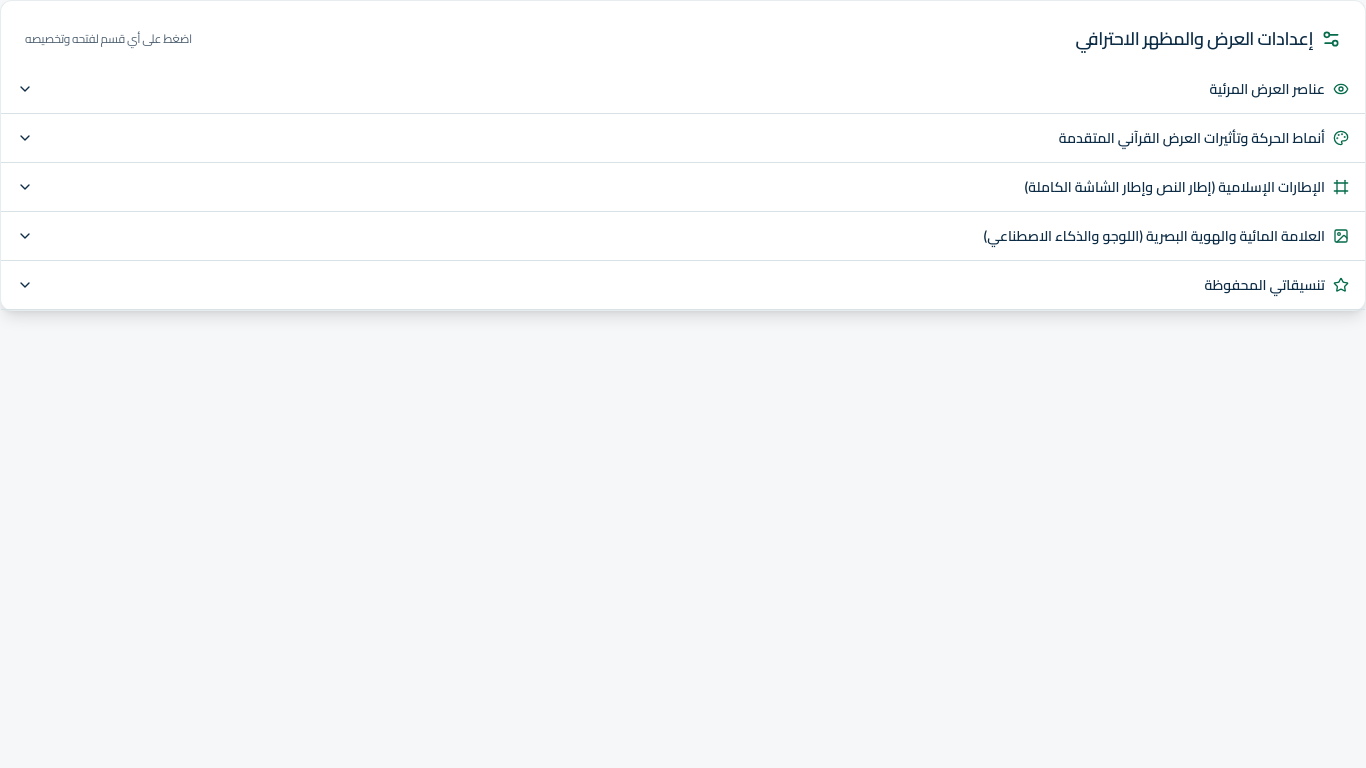
Test case: preview studio settings and sharing › keeps the social handle and position changes instead of overwriting them with stale state
Click the button "العلامة المائية والهوية البصرية (اللوجو والذكاء الاصطناعي)" at (1154,236), box [17,212,1349,260]
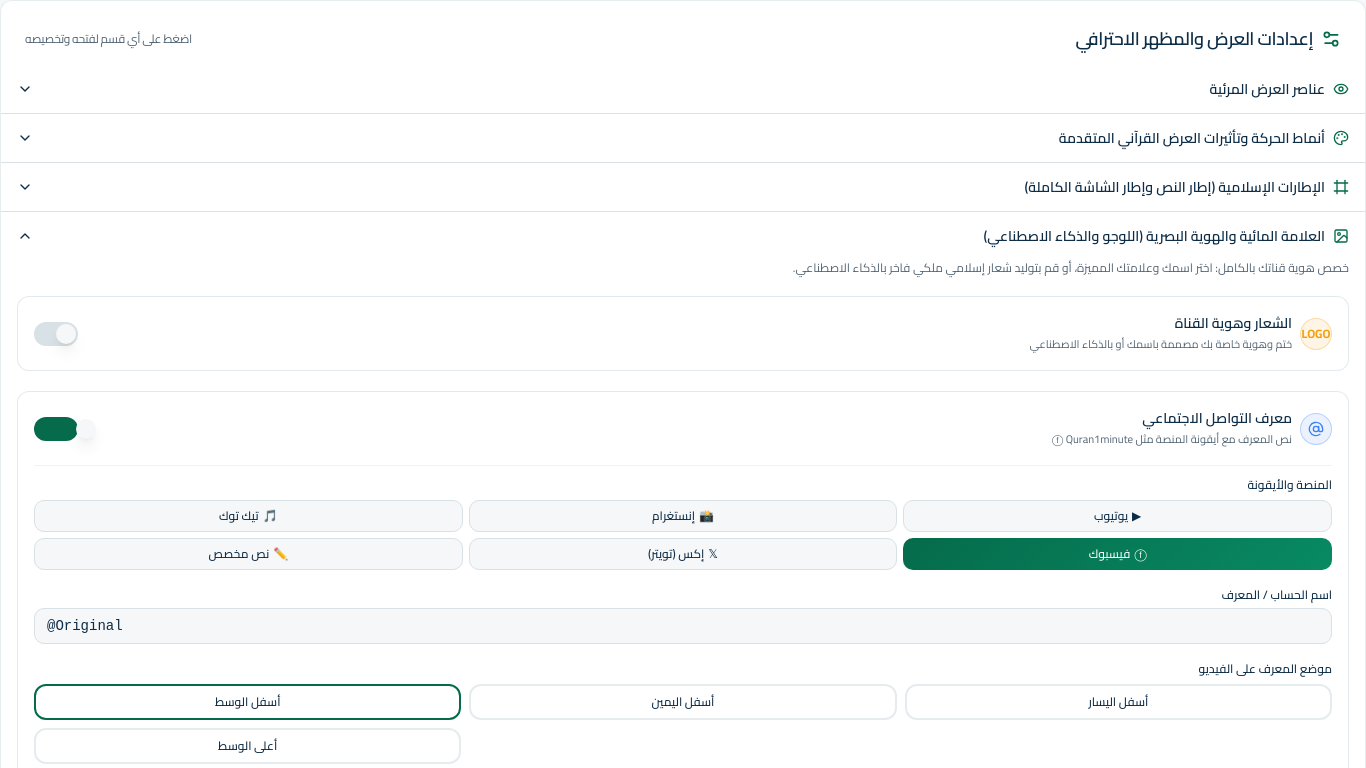
Replace the text in the field with placeholder "@QuranReels أو @username" with "@Updated" at (683,626), box [34,608,1332,644]
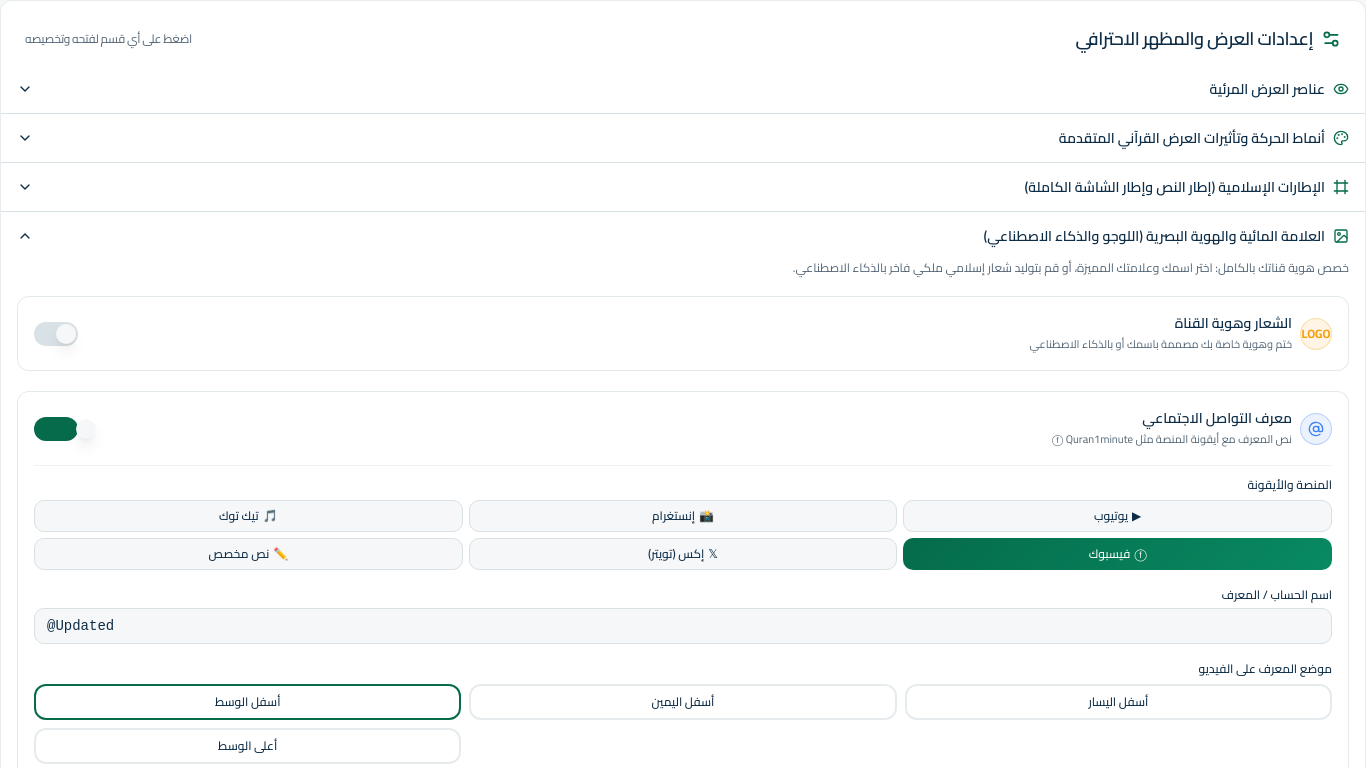
Click the radio button with id "socpos-topCenter" at (41,735), box [33,727,49,743]
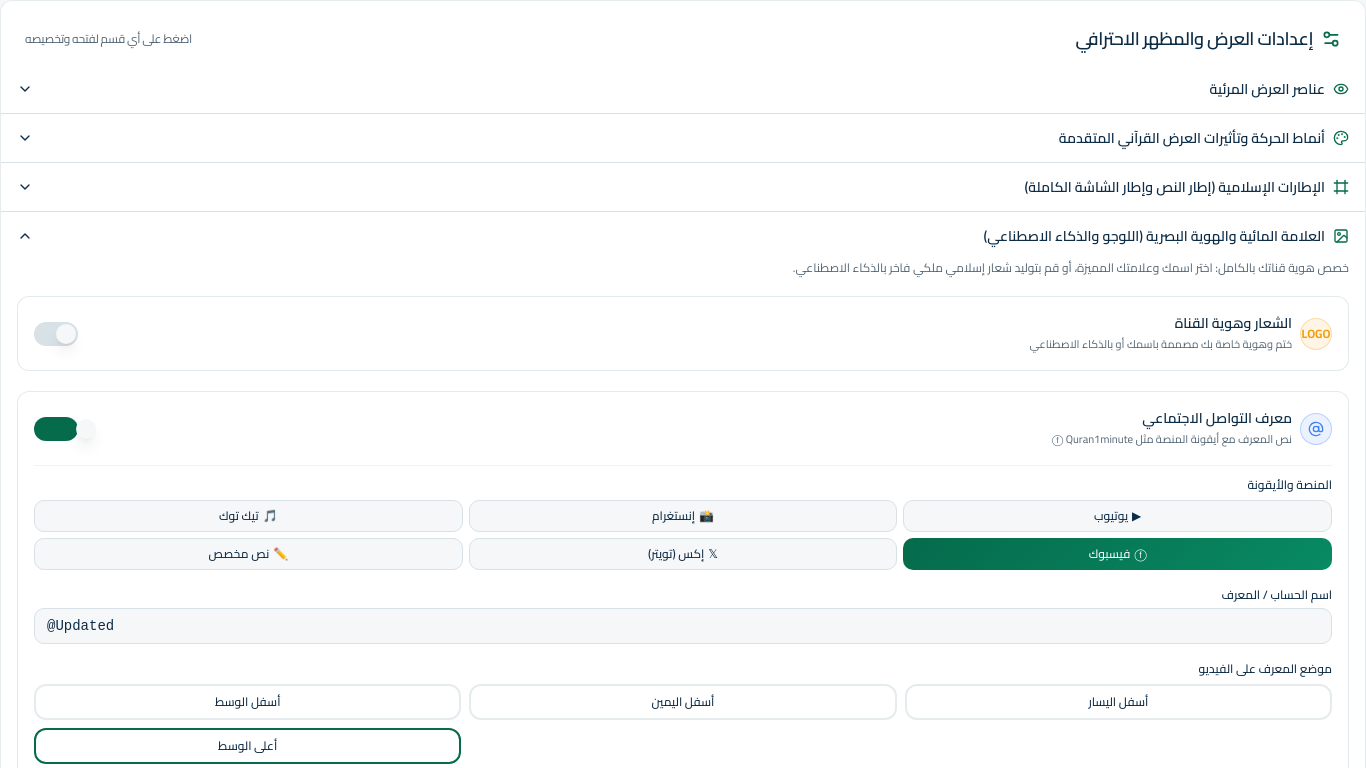
expect the radio button with id "socpos-topCenter" is checked: met, box [33,727,49,743]
